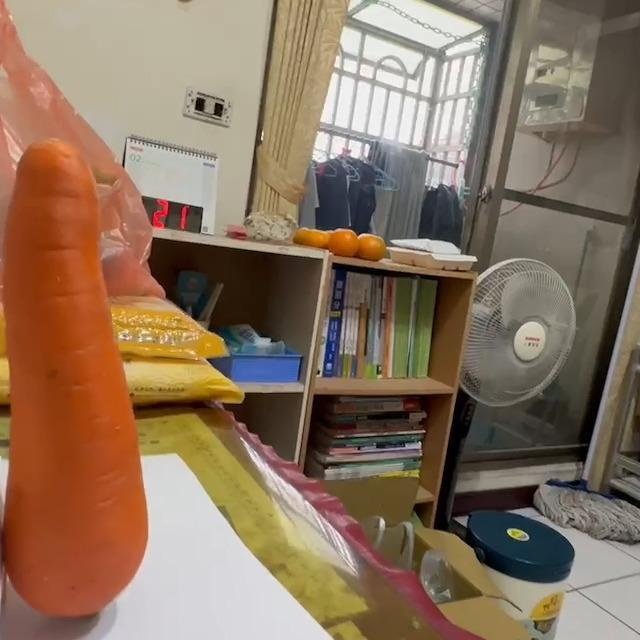carrot: (2, 137, 151, 624)
